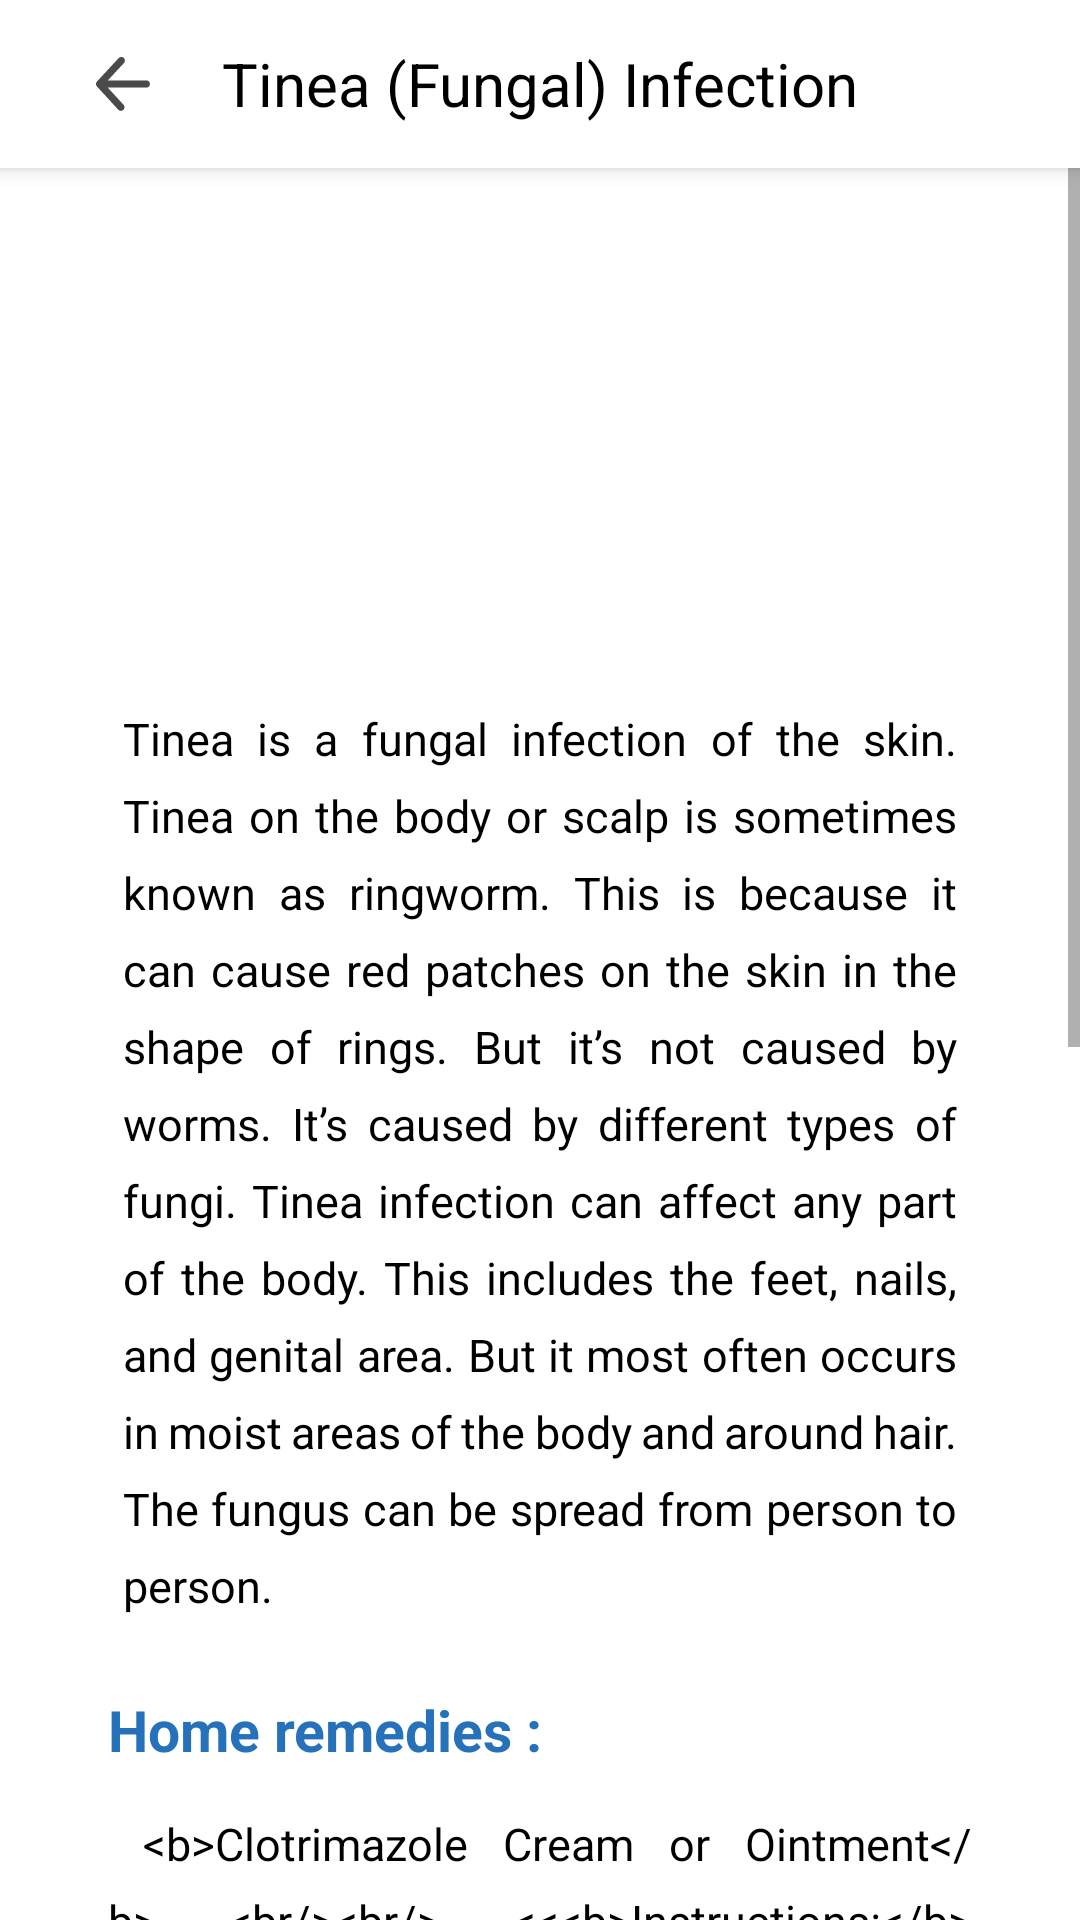

Icon click points for this 1080px x 1920px phone screenshot, format point (x, y):
Back: point (123, 84)
